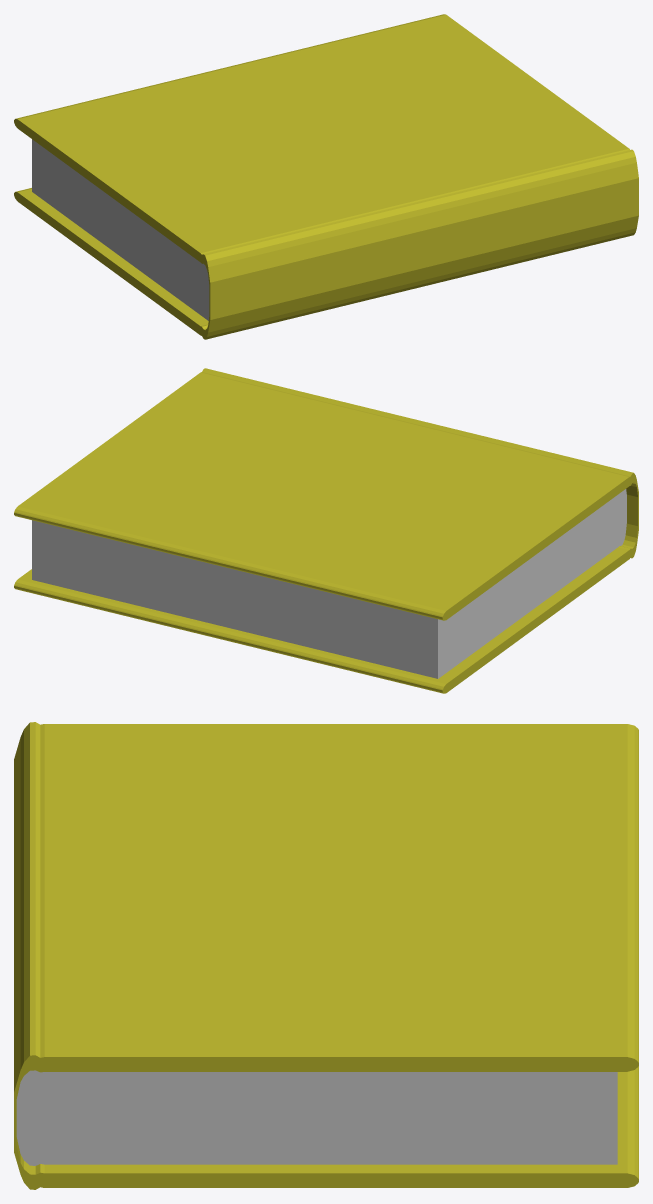
Rendered from book_yellow.fbx.
3 renders of one model, top to bottom at view 1: azimuth 30°, elevation 25°; view 2: azimuth 150°, elevation 25°; view 3: azimuth 270°, elevation 25°, orthographic. The views are drawn at different scales.
Parts seen in each view (by area): view 1: book; view 2: book; view 3: book.
Part boxes in pixels (<box>): book: <box>14,14,638,339</box>; book: <box>14,368,638,693</box>; book: <box>14,722,638,1189</box>.
Bounding box in the file's own units: 21.11 × 3.98 × 16.74.
